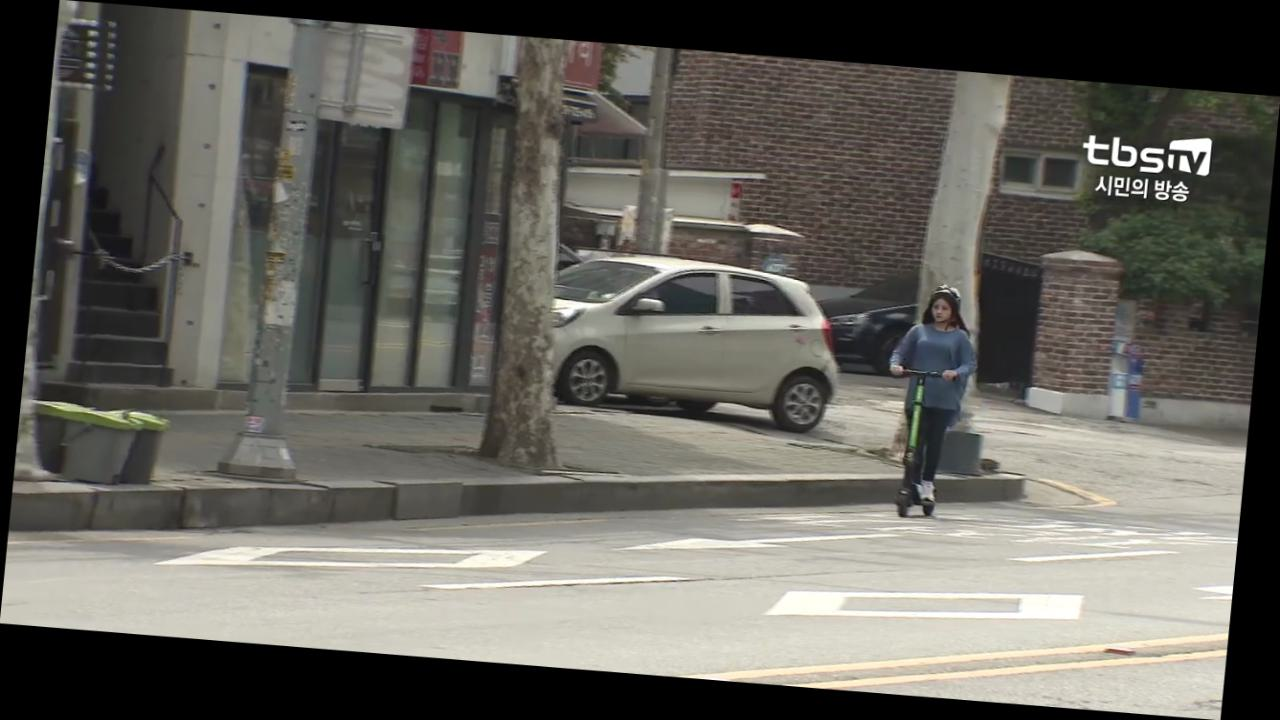helmet: (872, 280, 985, 521)
